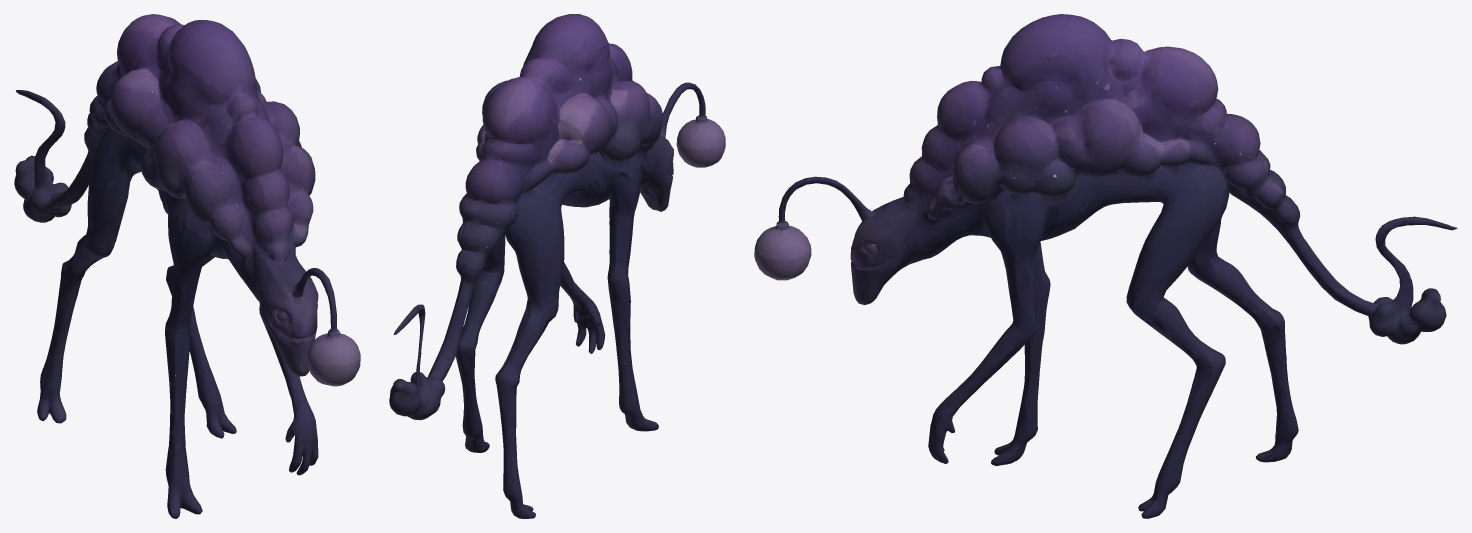
The picture shows the model from 3 angles, left to right: view 1: azimuth 30°, elevation 25°; view 2: azimuth 150°, elevation 25°; view 3: azimuth 270°, elevation 25°; orthographic projection. The views are drawn at different scales.
Parts seen in each view (by area): view 1: Mesh_0; view 2: Mesh_0; view 3: Mesh_0.
Part boxes in pixels (<box>): Mesh_0: <box>14,14,360,518</box>; Mesh_0: <box>389,14,725,518</box>; Mesh_0: <box>754,14,1457,518</box>.
Size of the model in its own units: 0.4613 by 1.42 by 1.93.
Materials: 1 (1 with a texture image).
